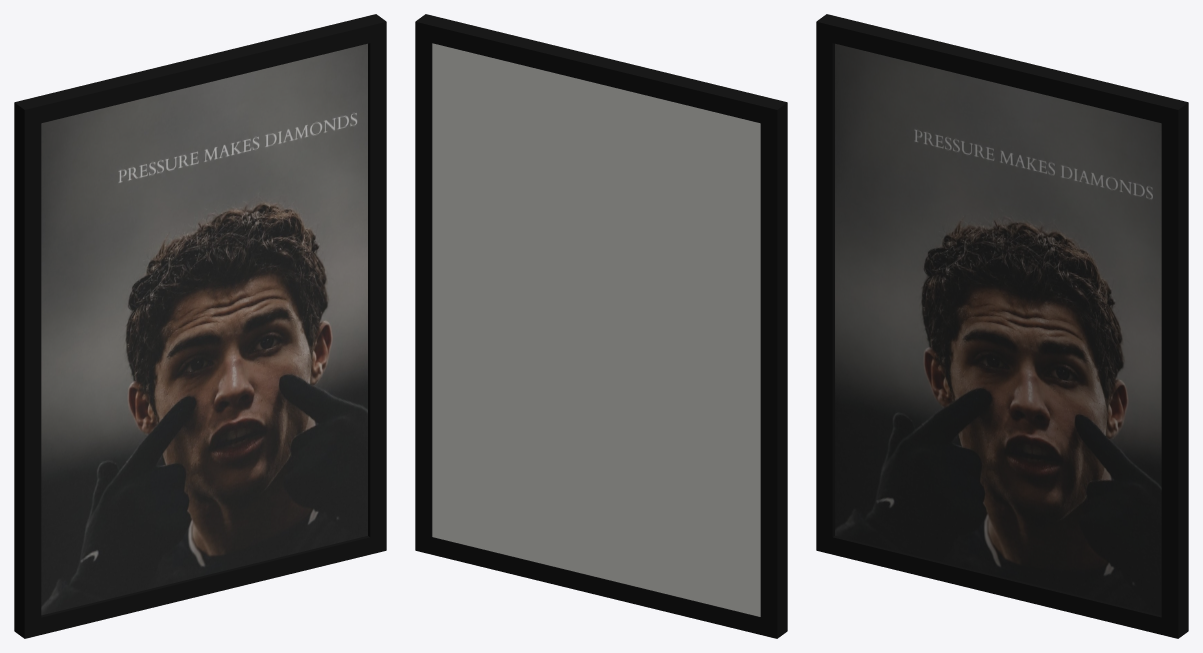
Rendered from vertical-poster-pressure-makes-diamonds-motivational-sports-wall-art.glb.
3 renders of one model, left to right at view 1: azimuth 30°, elevation 25°; view 2: azimuth 150°, elevation 25°; view 3: azimuth 330°, elevation 25°, orthographic.
Visible parts, largest first — view 1: Pressure Makes Diamonds – Motivationsposter; view 2: Pressure Makes Diamonds – Motivationsposter; view 3: Pressure Makes Diamonds – Motivationsposter.
Boxes of the visible parts, x1,y1,x2,y2 form: Pressure Makes Diamonds – Motivationsposter: (14,14,386,638); Pressure Makes Diamonds – Motivationsposter: (415,14,787,638); Pressure Makes Diamonds – Motivationsposter: (816,14,1188,638).
Size of the model in its own units: 0.4366 by 0.6096 by 0.022.
Materials: 1 (1 with a texture image).
